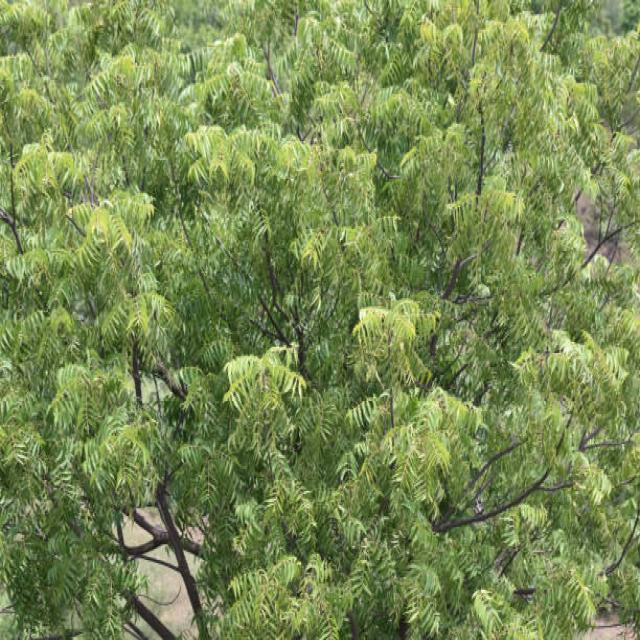Neem-Tree: (0, 0, 640, 474)
